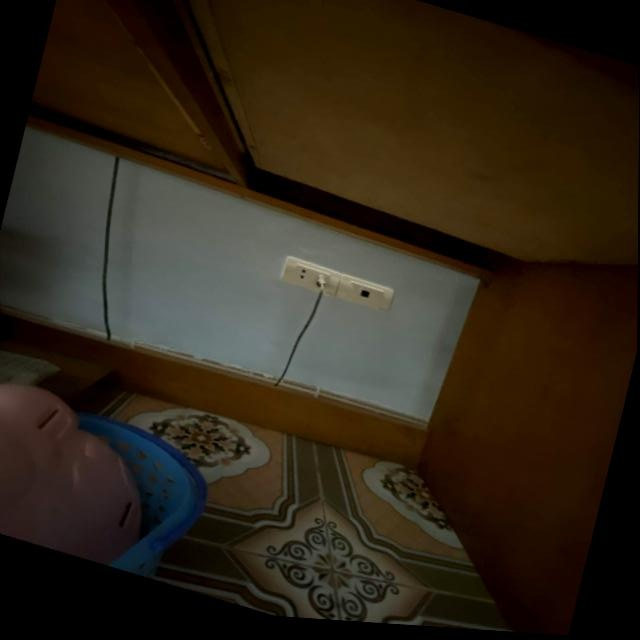outlet: (281, 255, 343, 297), (338, 272, 396, 313)
